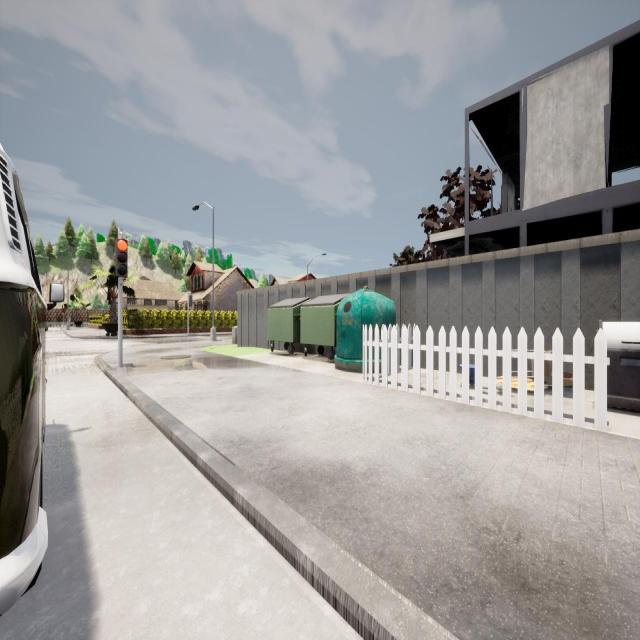Vehicle: (0, 140, 65, 614)
traffic_light: (116, 239, 128, 277), (188, 295, 192, 306), (62, 305, 65, 313)
